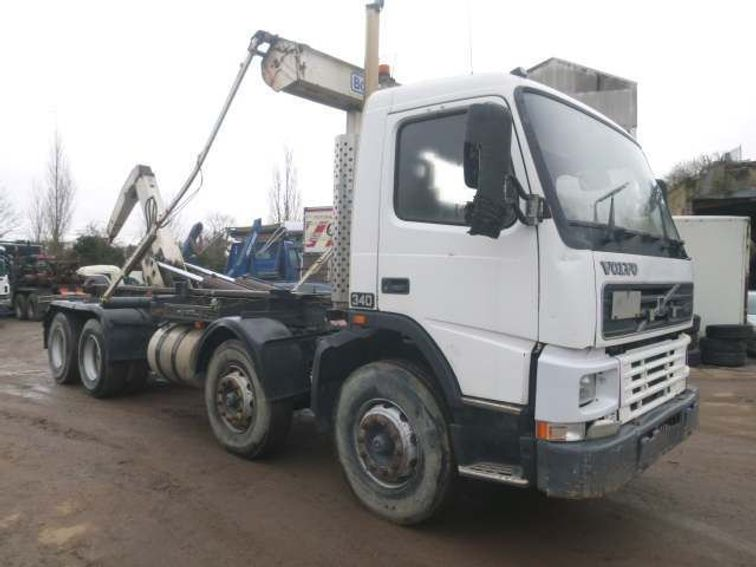Semi: (42, 30, 699, 527)
